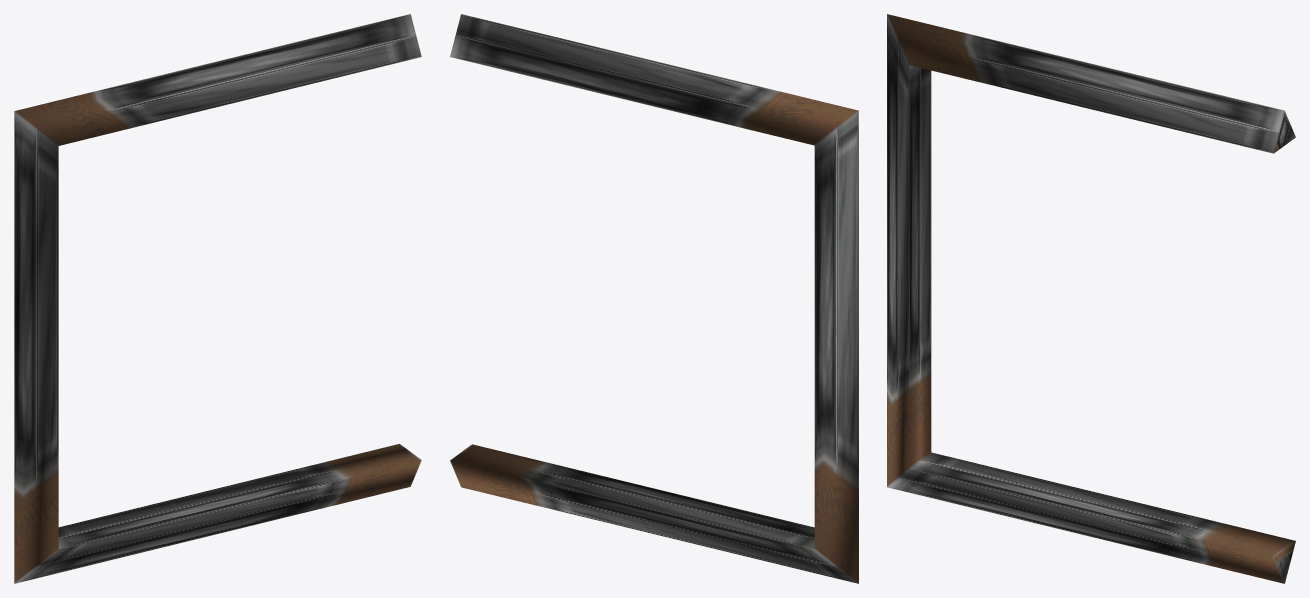
Rendered from INST_SWORDLIGHT_BRKT8M.fbx.
The picture shows the model from 3 angles, left to right: view 1: azimuth 30°, elevation 25°; view 2: azimuth 150°, elevation 25°; view 3: azimuth 330°, elevation 25°; orthographic projection.
Parts seen in each view (by area): view 1: INST_SWORDLIGHT_BRKT8M; view 2: INST_SWORDLIGHT_BRKT8M; view 3: INST_SWORDLIGHT_BRKT8M.
Boxes of the visible parts, x1,y1,x2,y2 form: INST_SWORDLIGHT_BRKT8M: (14,14,421,583); INST_SWORDLIGHT_BRKT8M: (450,14,858,583); INST_SWORDLIGHT_BRKT8M: (887,14,1295,583).
Bounding box in the file's own units: 15463 × 17599 × 1529.
1 material, 1 textured.
